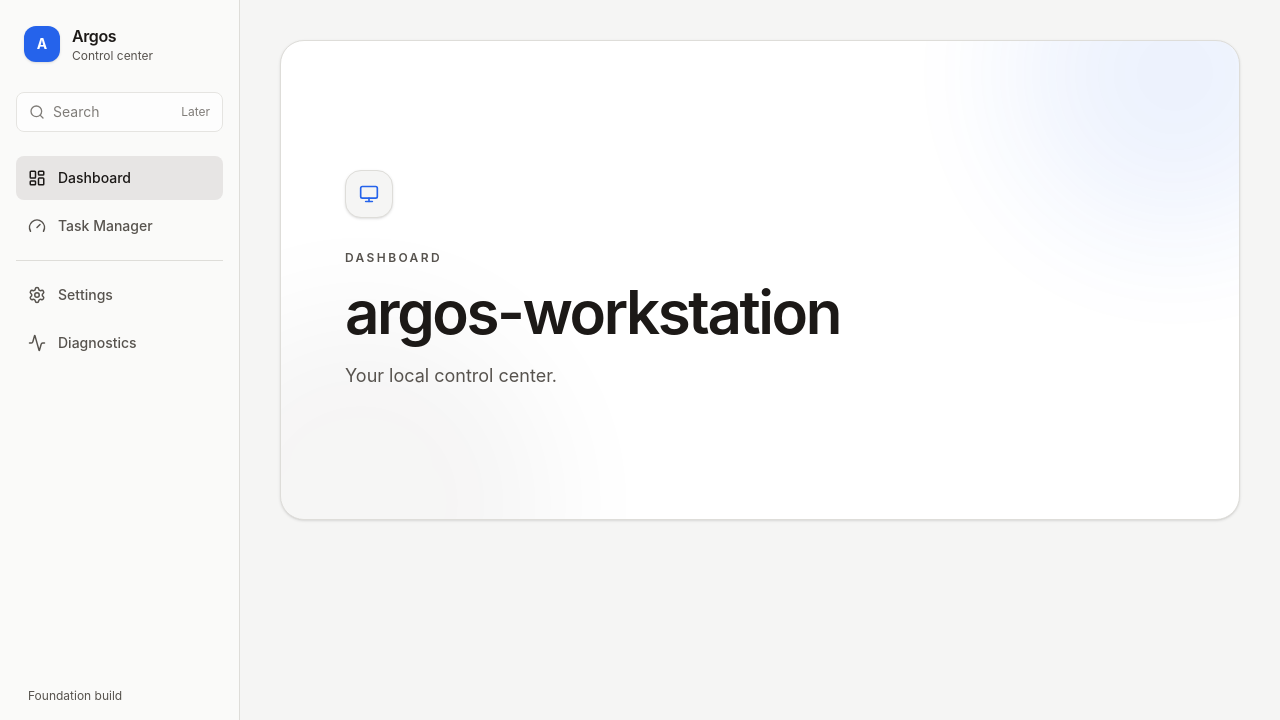
Test: application shell › navigates among every non-disableable core route
Expected: the heading "argos-workstation" is shown, 345,282 -> 840,342
Click the link "Settings" at [70, 295], box 28,286 -> 113,304
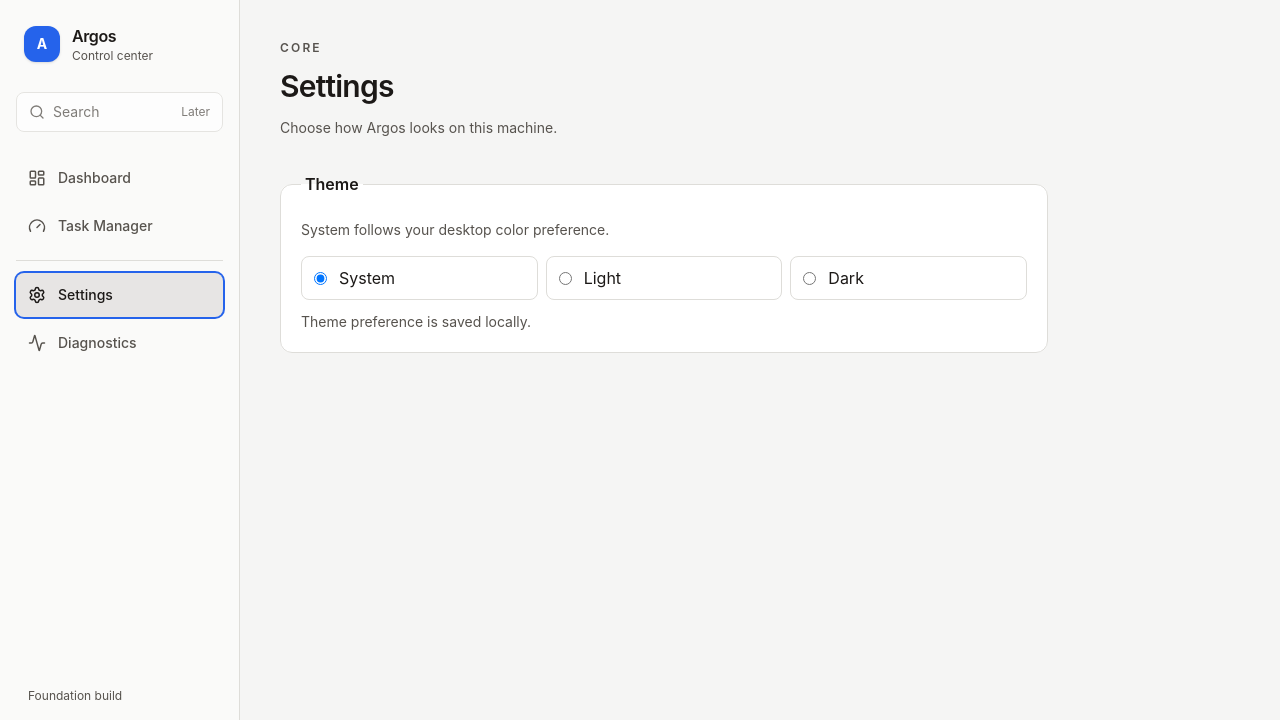
Now the heading "Settings" is shown, box 280,68 -> 394,104
Click the link "Diagnostics" at [82, 343], box 28,334 -> 137,352
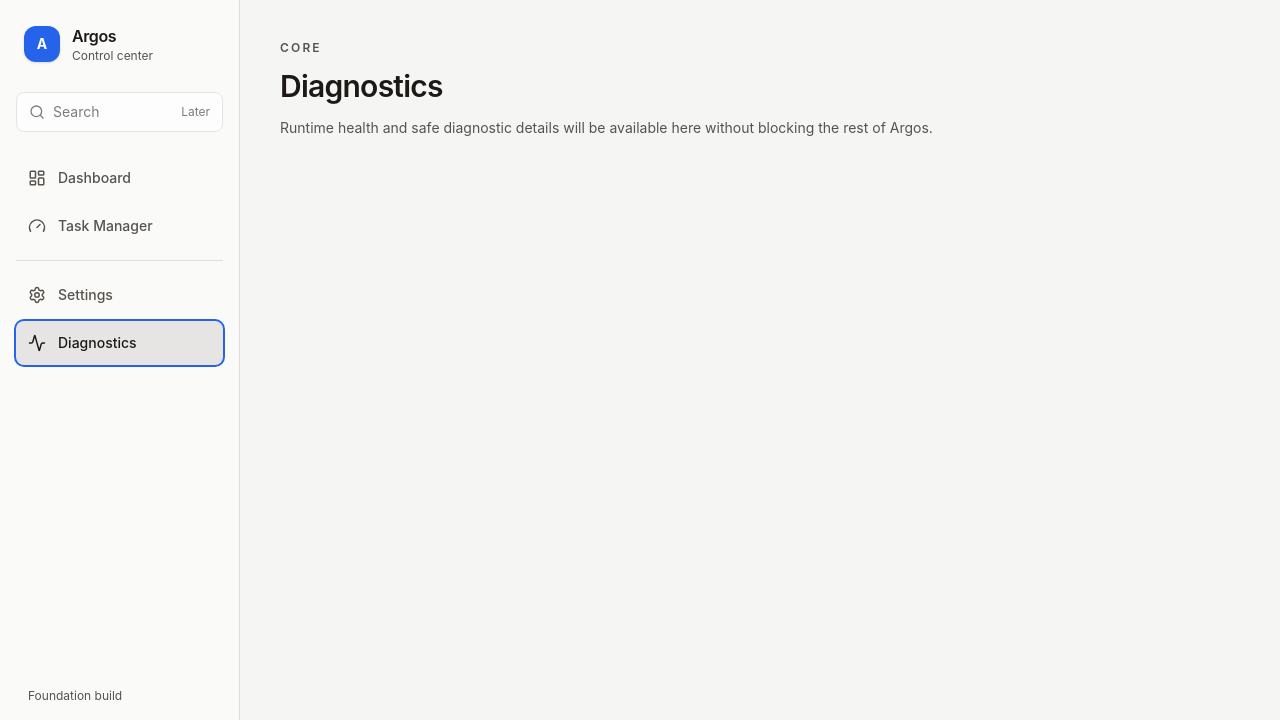
Now the heading "Diagnostics" is shown, box 280,68 -> 443,104
Click the link "Dashboard" at [80, 178], box 28,169 -> 131,187
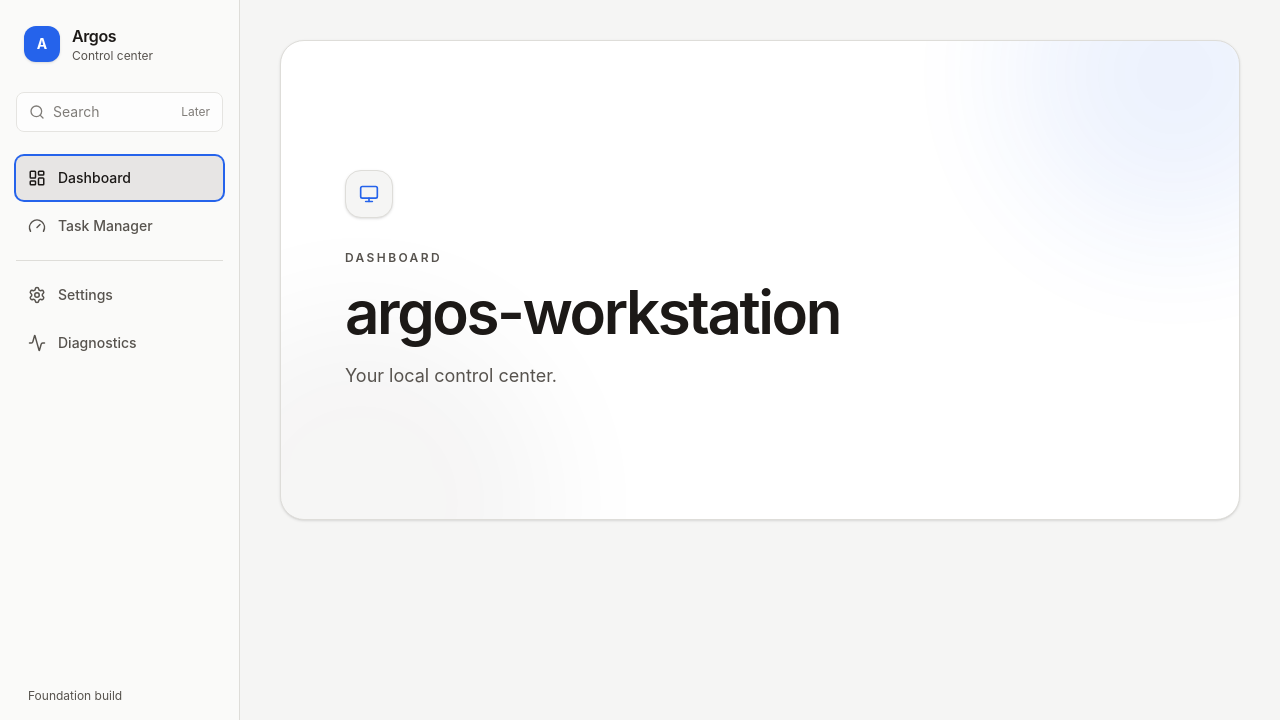
Now the heading "argos-workstation" is shown, box 345,282 -> 840,342
